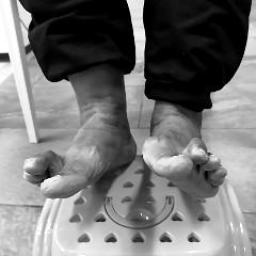Front View -Both Feet-: (8, 81, 248, 225)
